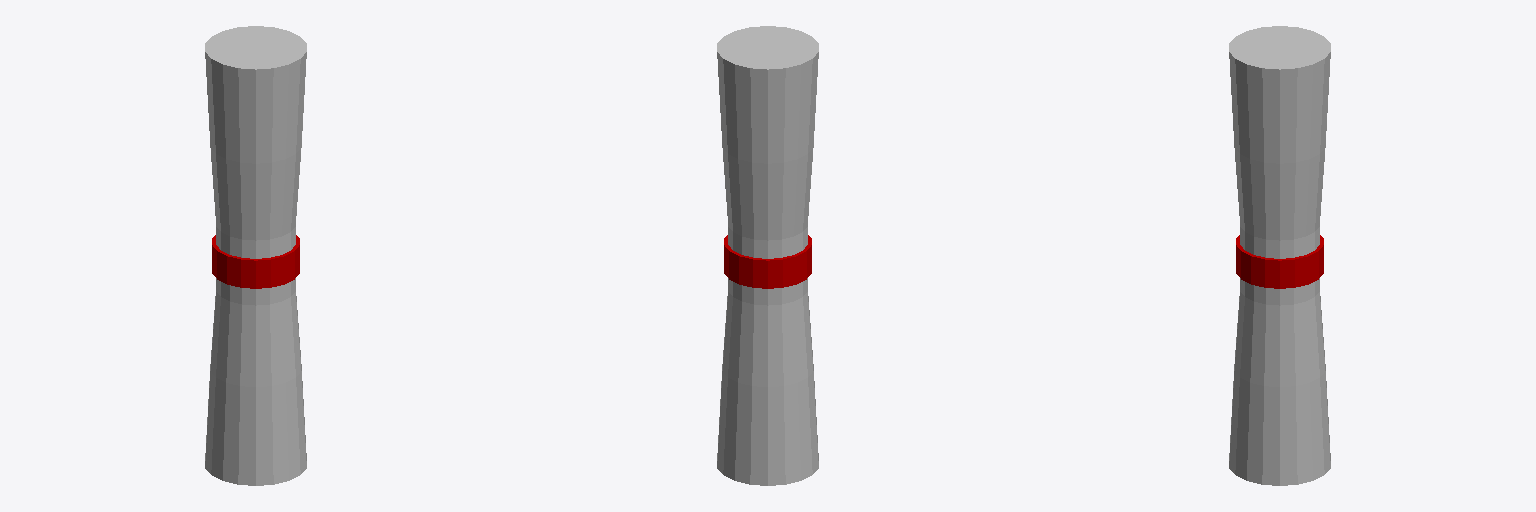
Rendered from scroll.obj.
The picture shows the model from 3 angles: view 1: azimuth 30°, elevation 25°; view 2: azimuth 150°, elevation 25°; view 3: azimuth 270°, elevation 25°; orthographic projection.
Parts seen in each view (by area): view 1: scroll; view 2: scroll; view 3: scroll.
Boxes of the visible parts, box(x1,y1,x2,y2) form: scroll: box(205, 26, 306, 485); scroll: box(717, 26, 818, 485); scroll: box(1229, 26, 1330, 485).
Bounding box in the file's own units: 90 × 400 × 88.63.